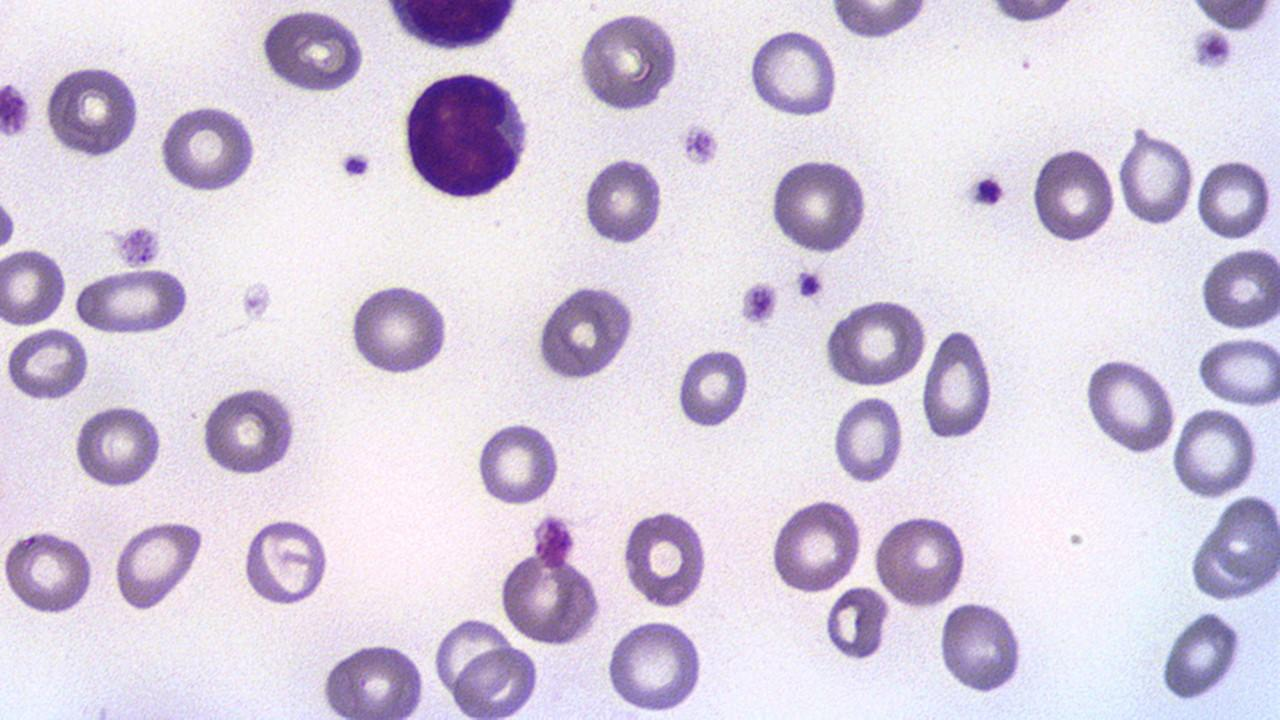Platelets: (1187, 2, 1279, 31), (532, 510, 576, 565), (1189, 26, 1237, 75), (113, 223, 164, 269), (678, 120, 722, 171), (738, 277, 780, 329), (964, 168, 1010, 212), (0, 80, 32, 143), (238, 278, 276, 324), (336, 146, 375, 181), (794, 268, 825, 302)
RBC: (574, 8, 683, 114), (531, 282, 639, 382), (765, 156, 873, 256), (347, 279, 452, 379), (498, 550, 602, 648), (256, 5, 368, 96), (1079, 355, 1179, 456), (604, 616, 706, 714), (42, 62, 142, 160), (822, 298, 929, 389), (872, 512, 970, 610), (768, 494, 862, 596), (157, 101, 258, 194), (197, 386, 301, 476), (111, 518, 208, 614), (622, 504, 709, 610), (317, 640, 432, 718), (1, 526, 96, 619), (1169, 404, 1259, 502), (919, 326, 995, 442), (936, 599, 1025, 697), (1030, 144, 1116, 245), (239, 517, 335, 607), (1156, 606, 1244, 704), (748, 27, 840, 120), (72, 400, 164, 490), (1116, 126, 1196, 229), (473, 416, 562, 508), (73, 267, 190, 336), (581, 154, 665, 249), (4, 324, 92, 404), (448, 644, 542, 718), (1207, 492, 1279, 588), (832, 392, 905, 486), (1199, 246, 1279, 331), (1195, 156, 1273, 243), (675, 344, 751, 430), (1194, 334, 1280, 408), (0, 242, 68, 329), (824, 582, 893, 663), (829, 1, 931, 42), (1188, 1, 1276, 32)
WBC: (272, 0, 1280, 720), (399, 65, 538, 206), (380, 1, 530, 54), (967, 0, 1091, 29)
